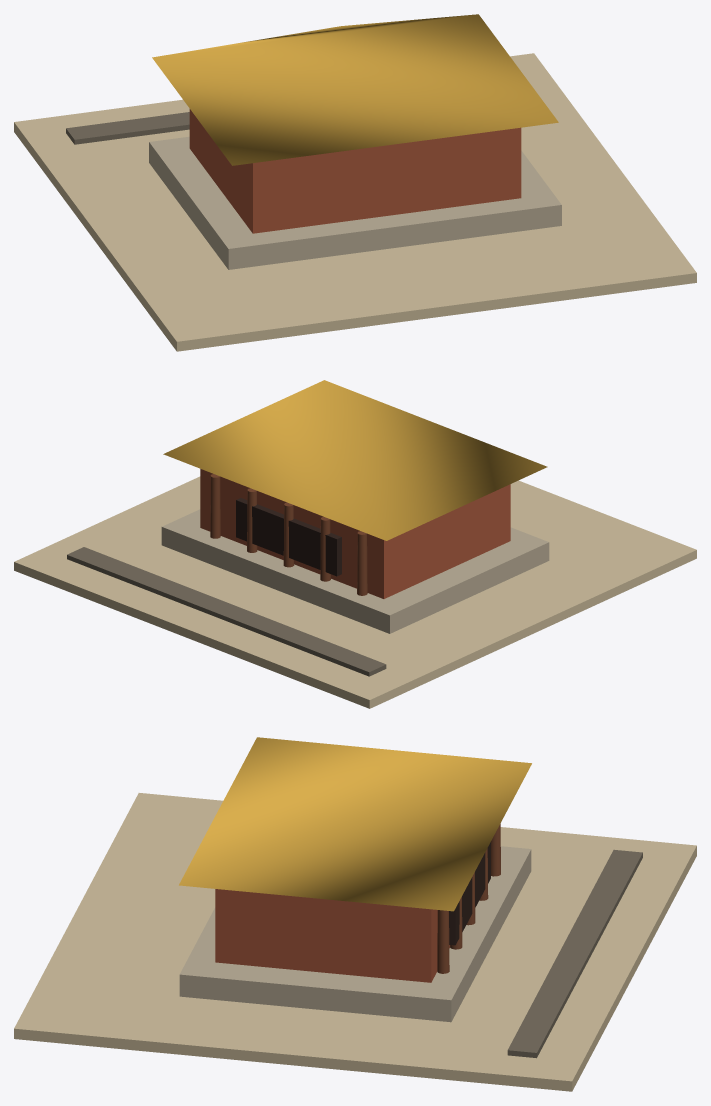
File: model-medium.glb
3 renders of one model, top to bottom at view 1: azimuth 30°, elevation 25°; view 2: azimuth 150°, elevation 25°; view 3: azimuth 270°, elevation 25°, orthographic. The views are drawn at different scales.
Visible parts, largest first — view 1: context_site_plinth, sweeping_tiled_roof, main_hall_wall_volume, raised_ceremonial_platform, front_scale_strip; view 2: context_site_plinth, sweeping_tiled_roof, raised_ceremonial_platform, main_hall_wall_volume, front_scale_strip, central_shadow_door, front_column_5, front_column_1; view 3: context_site_plinth, sweeping_tiled_roof, main_hall_wall_volume, raised_ceremonial_platform, front_scale_strip, central_shadow_door, front_column_5.
Part boxes in pixels (box(x1,y1,x2,y2)): context_site_plinth: box(14, 53, 696, 351); sweeping_tiled_roof: box(152, 14, 558, 165); main_hall_wall_volume: box(189, 109, 521, 233); raised_ceremonial_platform: box(149, 136, 561, 269); front_scale_strip: box(66, 112, 189, 144); context_site_plinth: box(14, 476, 696, 708); sweeping_tiled_roof: box(163, 380, 547, 540); raised_ceremonial_platform: box(161, 509, 549, 633); main_hall_wall_volume: box(200, 469, 510, 598); front_scale_strip: box(67, 547, 386, 676); central_shadow_door: box(236, 498, 341, 576); front_column_5: box(210, 474, 220, 538); front_column_1: box(357, 531, 367, 595); context_site_plinth: box(14, 793, 696, 1091); sweeping_tiled_roof: box(179, 737, 531, 911); main_hall_wall_volume: box(215, 889, 449, 982); raised_ceremonial_platform: box(179, 846, 531, 1022); front_scale_strip: box(507, 849, 642, 1058); central_shadow_door: box(449, 842, 490, 945); front_column_5: box(437, 910, 449, 973).
Bounding box in the file's own units: 9.55 × 2.62 × 9.55.
